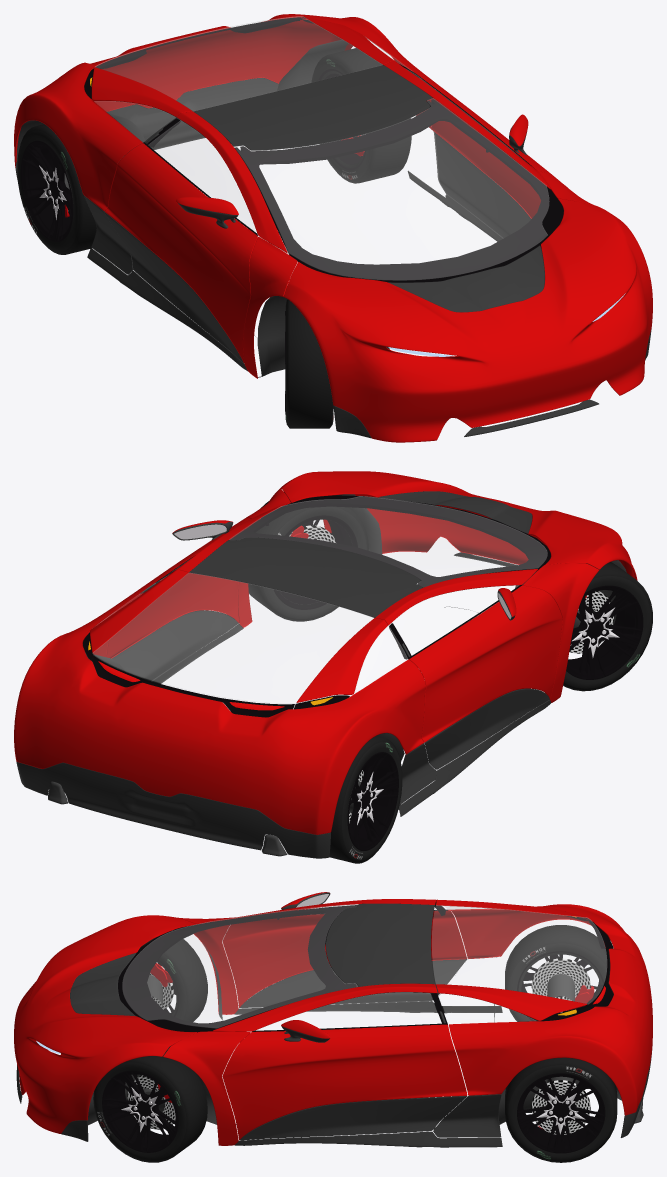
The model's file is concept_lo.glb.
3 views of the same model, one above another, from view 1: azimuth 30°, elevation 25°; view 2: azimuth 150°, elevation 25°; view 3: azimuth 270°, elevation 25° (orthographic). The views are drawn at different scales.
Visible parts, largest first — view 1: BodyHood, BodyWindshield, BodyRearPanelsColor1, BodyRearwindow, BodyDoorRColor1, BodyWindshieldGasket, BodyRoofPanel, BodyPanelsColor2, BodyPillars, BodyHoodTopgrill, WheelFrontR, BodyDoorLColor2 (+10 smaller); view 2: BodyRearPanelsColor1, BodyRearwindow, BodyWindshield, BodyPanelsColor2, BodyDoorRColor1, BodyHood, BodyRoofPanel, BodyPillars, BodyWindshieldGasket, WheelFrontRRim, BodyDoorLColor1, BodyDoorLColor2 (+11 smaller); view 3: BodyRearPanelsColor1, BodyWindshield, BodyDoorLColor1, BodyHood, BodyRearwindow, BodyPillars, BodyRoofPanel, BodyPanelsColor2, BodyDoorRColor1, BodyWindshieldGasket, BodyDoorLColor2, WheelFrontL (+17 smaller).
Part boxes in pixels (x1,y1,x2,y2): BodyHood: [283, 198, 652, 442]; BodyWindshield: [234, 98, 549, 280]; BodyRearPanelsColor1: [14, 14, 434, 210]; BodyRearwindow: [95, 16, 382, 110]; BodyDoorRColor1: [104, 143, 257, 362]; BodyWindshieldGasket: [234, 99, 563, 282]; BodyRoofPanel: [193, 65, 432, 150]; BodyPanelsColor2: [15, 77, 651, 438]; BodyPillars: [176, 61, 598, 378]; BodyHoodTopgrill: [388, 245, 544, 312]; WheelFrontR: [285, 299, 333, 428]; BodyDoorLColor2: [434, 132, 531, 238]; BodyRearPanelsColor1: [14, 569, 425, 834]; BodyRearwindow: [92, 573, 373, 703]; BodyWindshield: [229, 496, 547, 587]; BodyPanelsColor2: [16, 552, 550, 858]; BodyDoorRColor1: [409, 585, 562, 742]; BodyHood: [279, 471, 637, 580]; BodyRoofPanel: [189, 537, 422, 617]; BodyPillars: [175, 489, 599, 702]; BodyWindshieldGasket: [230, 495, 550, 587]; WheelFrontRRim: [566, 585, 643, 679]; BodyDoorLColor1: [106, 517, 250, 658]; BodyDoorLColor2: [112, 610, 238, 681]; BodyRearPanelsColor1: [436, 899, 652, 1115]; BodyWindshield: [122, 904, 357, 1028]; BodyDoorLColor1: [222, 1024, 467, 1139]; BodyHood: [14, 915, 196, 1133]; BodyRearwindow: [432, 905, 606, 1003]; BodyPillars: [163, 899, 437, 1145]; BodyRoofPanel: [326, 903, 434, 986]; BodyPanelsColor2: [16, 957, 652, 1147]; BodyDoorRColor1: [222, 909, 467, 1007]; BodyWindshieldGasket: [118, 905, 357, 1032]; BodyDoorLColor2: [240, 1096, 467, 1140]; WheelFrontL: [93, 1050, 207, 1162].
Bounding box in the file's own units: 2.54 × 1.15 × 4.36.
Materials: 15 (4 with a texture image).
